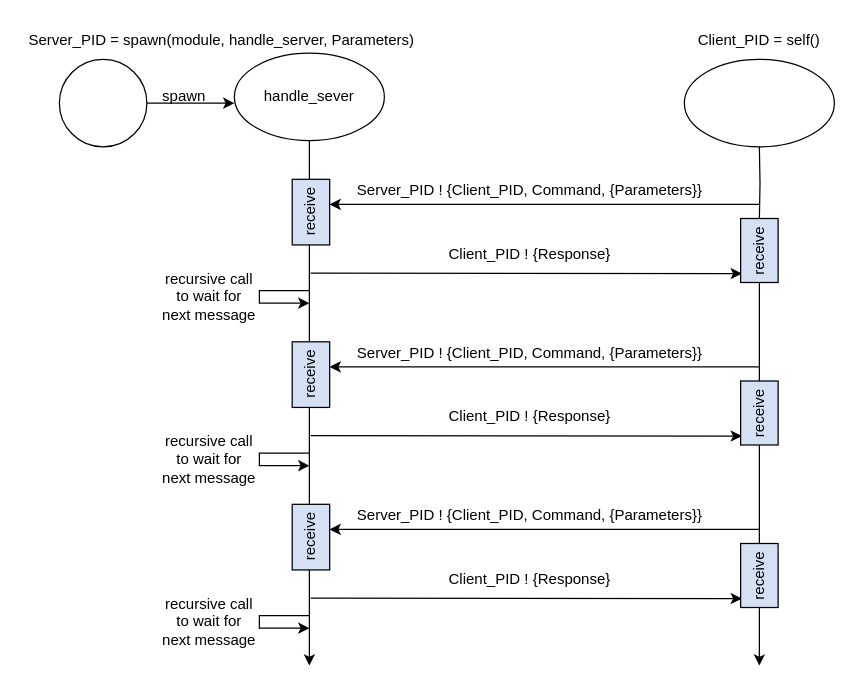
The diagram is 856 pixels wide and 698 high, and some of its shapes have lost their labels. The shapes that lost their labels are listed below. From the top down, each one's centre as x and y in pixels, then its label:
At (x=102, y=102): "start_server".
At (x=758, y=102): "send_to_server".
